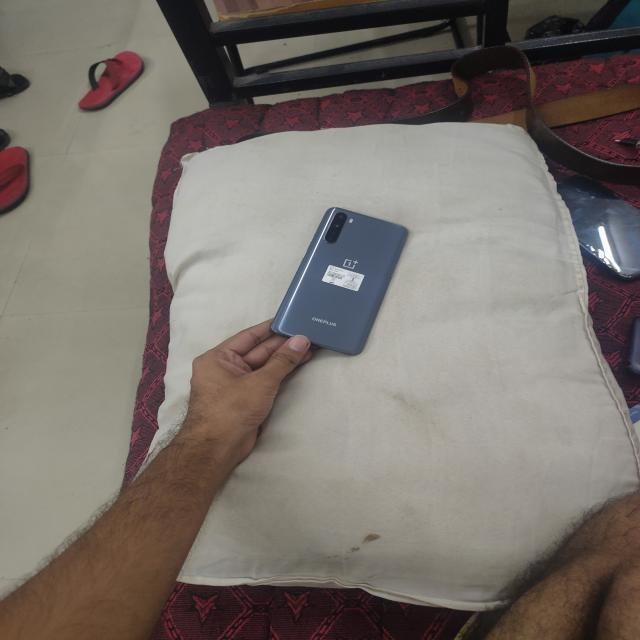Phone: (271, 203, 412, 361)
